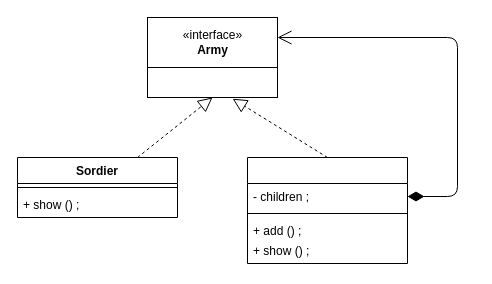
Some shapes in this 492 by 284 pixel diagram are drawn without their labels. Each missing label, with the box of its shape:
+ show ();: (146, 66, 278, 98)
Composite: (246, 156, 408, 264)
